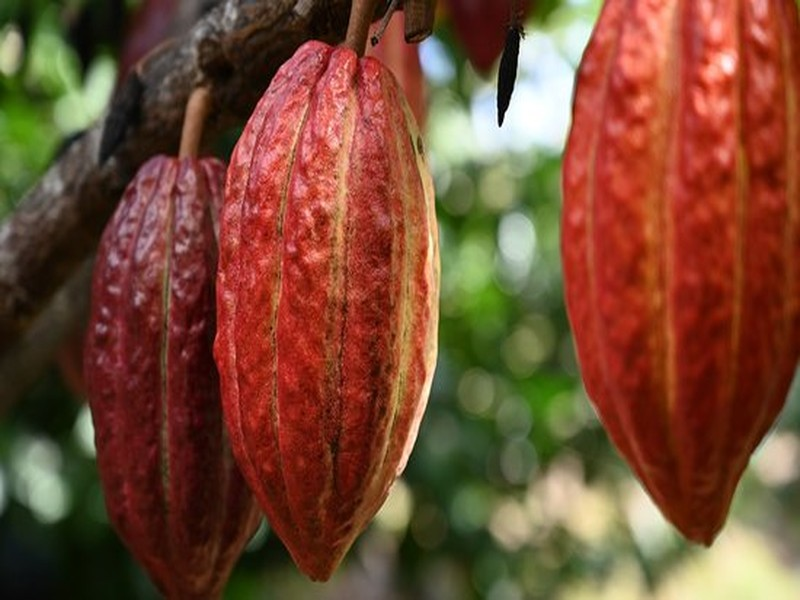Cacaopod: (219, 41, 440, 582)
